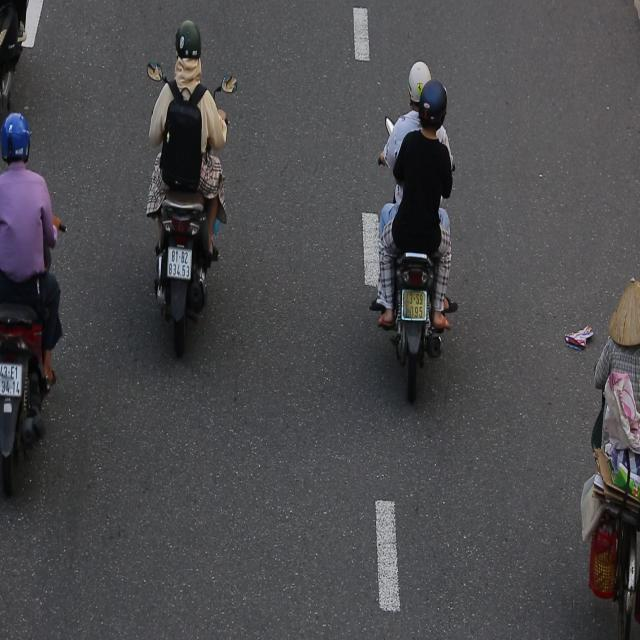motorbike: (136, 14, 230, 355), (367, 41, 454, 397)
